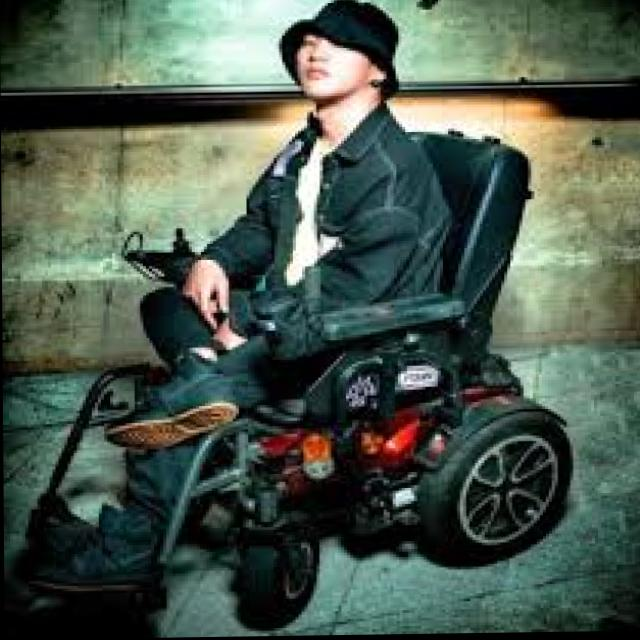wheelchair: (51, 0, 574, 621)
